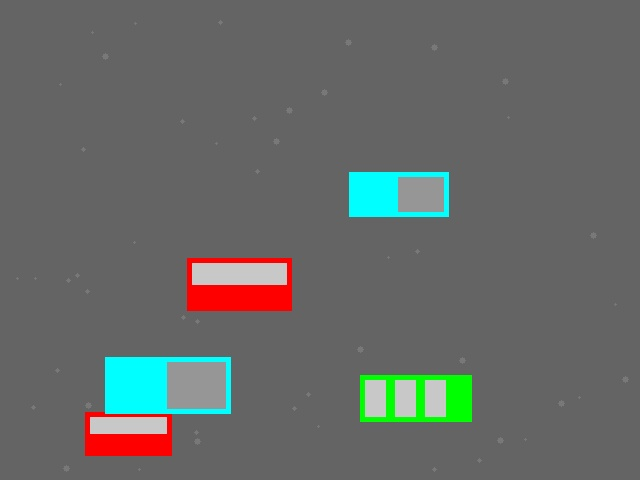bus: (360, 375, 471, 421)
car: (187, 258, 291, 310), (85, 412, 171, 455)
truck: (105, 357, 230, 413), (349, 172, 448, 216)
